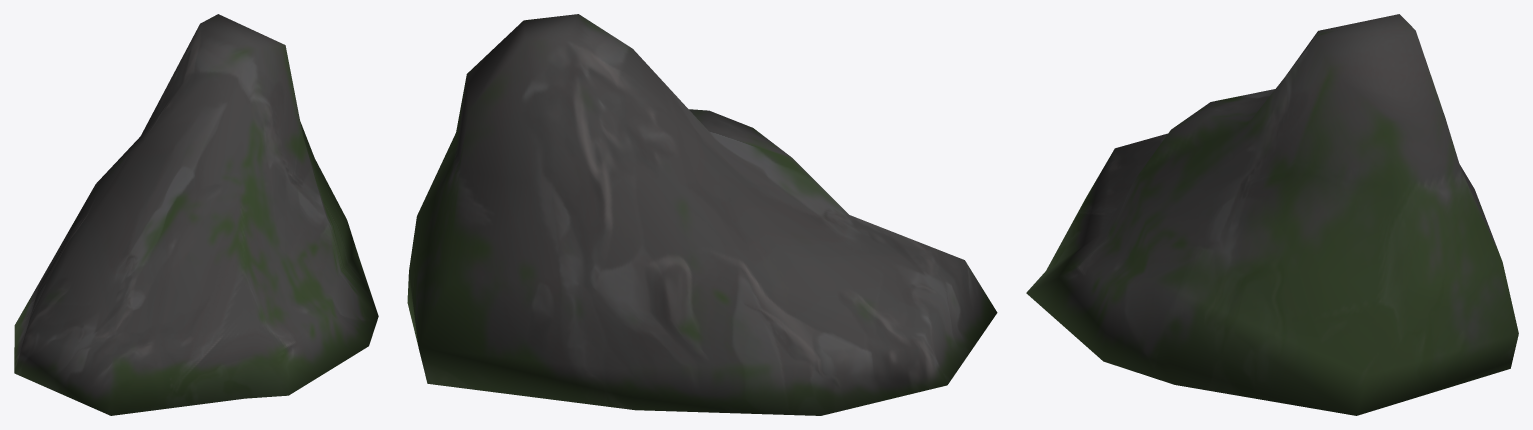
The model's file is Rock 1.fbx.
The picture shows the model from 3 angles, left to right: view 1: azimuth 30°, elevation 25°; view 2: azimuth 150°, elevation 25°; view 3: azimuth 270°, elevation 25°; orthographic projection. The views are drawn at different scales.
Visible parts, largest first — view 1: Rock 1; view 2: Rock 1; view 3: Rock 1.
Part boxes in pixels (<box>): Rock 1: <box>14,14,378,415</box>; Rock 1: <box>407,14,997,415</box>; Rock 1: <box>1026,14,1518,415</box>.
Size of the model in its own units: 1664 by 1074 by 1469.
